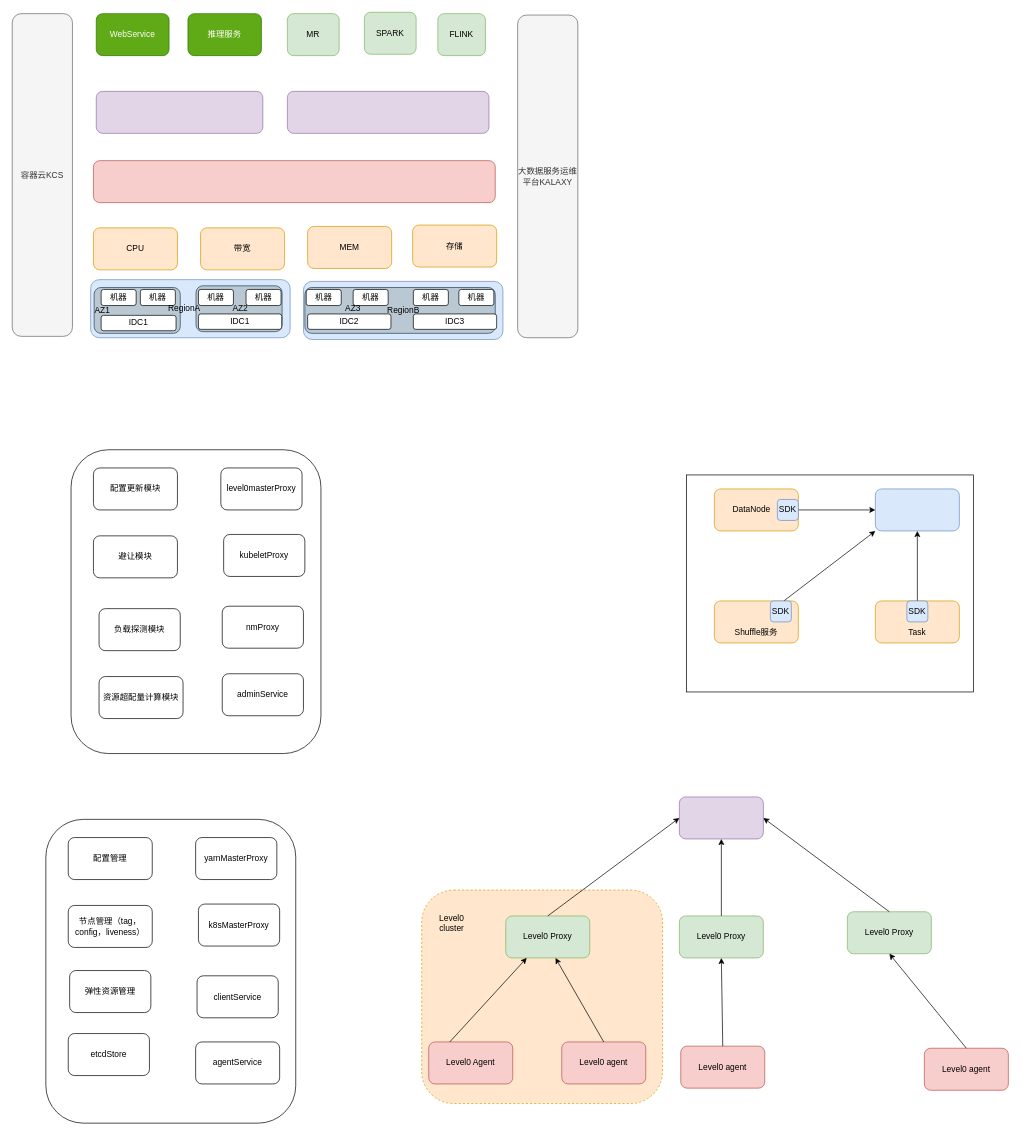
Some shapes in this 1021 by 1135 pixel diagram are drawn without their labels. The box of each missing label's shape, as (x1, y1, x2, y2) in pixels:
K8S: (96, 91, 263, 133)
Level0 Master: (679, 796, 763, 839)
YARN: (287, 91, 489, 133)
带宽管理Server: (875, 488, 959, 531)
统一资源管理（ARES）: (93, 160, 495, 203)
